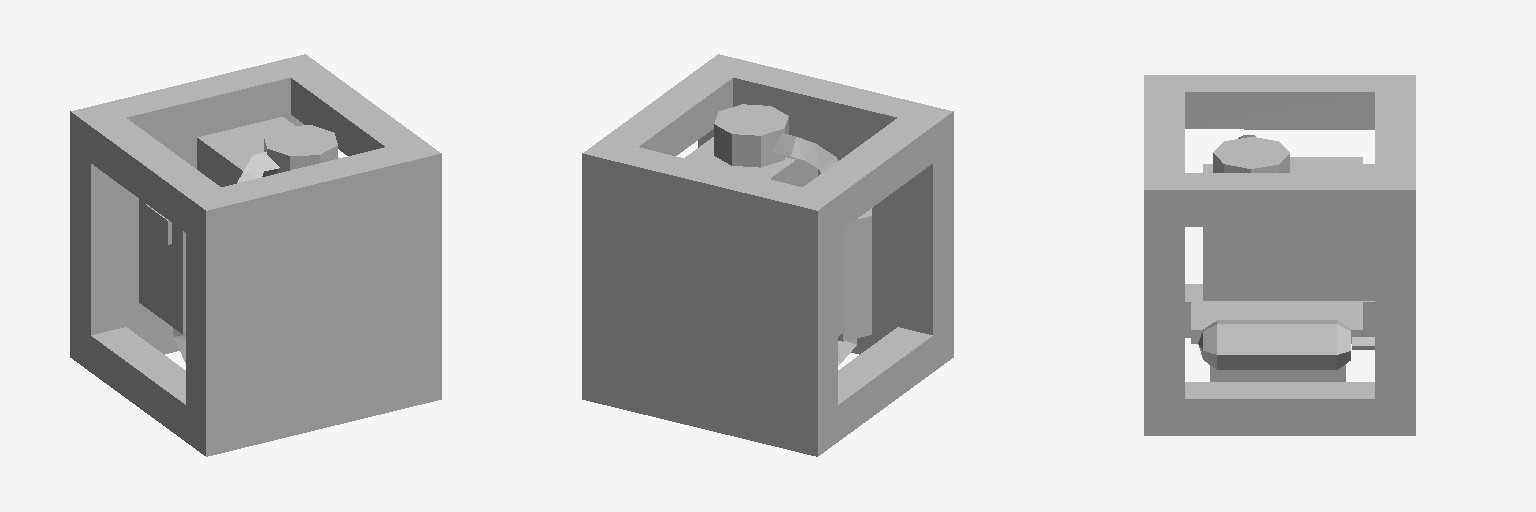
Rendered from obj_interactive_logicgate_on_body.obj.
3 views of the same model, side by side, from view 1: azimuth 30°, elevation 25°; view 2: azimuth 150°, elevation 25°; view 3: azimuth 270°, elevation 25° (orthographic).
Visible parts, largest first — view 1: obj_interactive_logicgate_on_body; view 2: obj_interactive_logicgate_on_body; view 3: obj_interactive_logicgate_on_body.
Boxes of the visible parts, x1=… form: obj_interactive_logicgate_on_body: x1=70, y1=54, x2=441, y2=456; obj_interactive_logicgate_on_body: x1=582, y1=54, x2=953, y2=456; obj_interactive_logicgate_on_body: x1=1144, y1=75, x2=1415, y2=435.
Size of the model in its own units: 1 by 1 by 1.